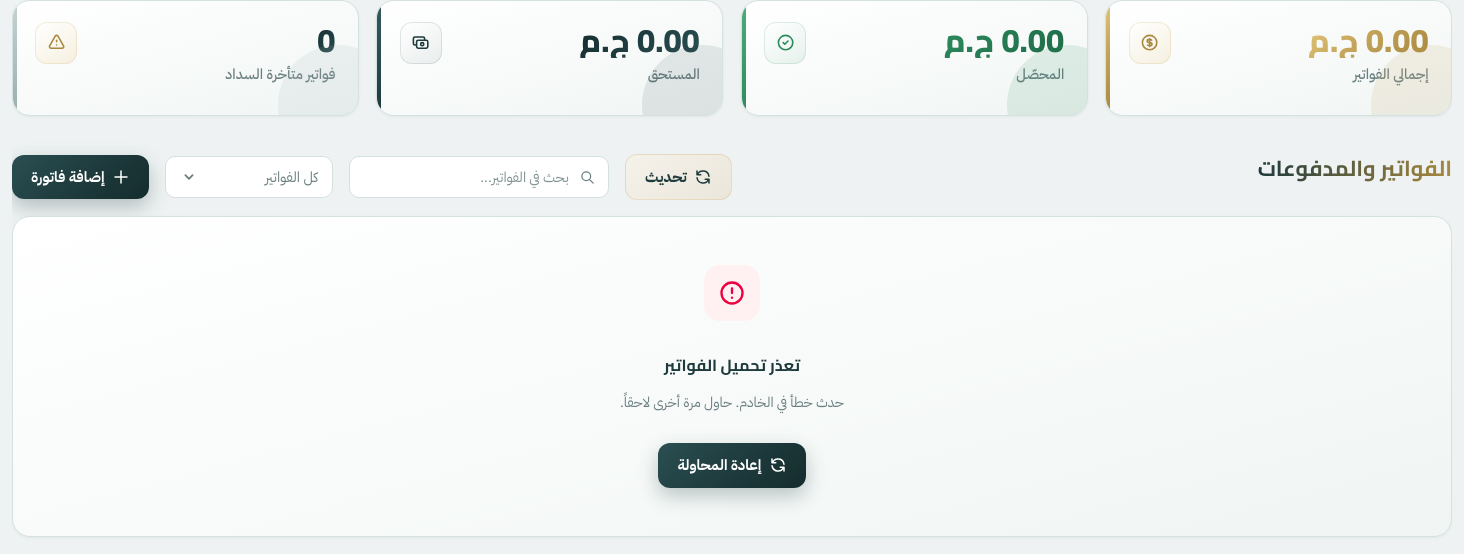
Test case: InvoicesPage Feature Tests › handles error state with retry button
The width and height of the screenshot is (1464, 554).
expect the text "تعذر تحميل الفواتير" is shown: met, box [664, 350, 800, 380]
Step 1. Click the button "إعادة المحاولة" → (732, 466), box [658, 443, 806, 488]
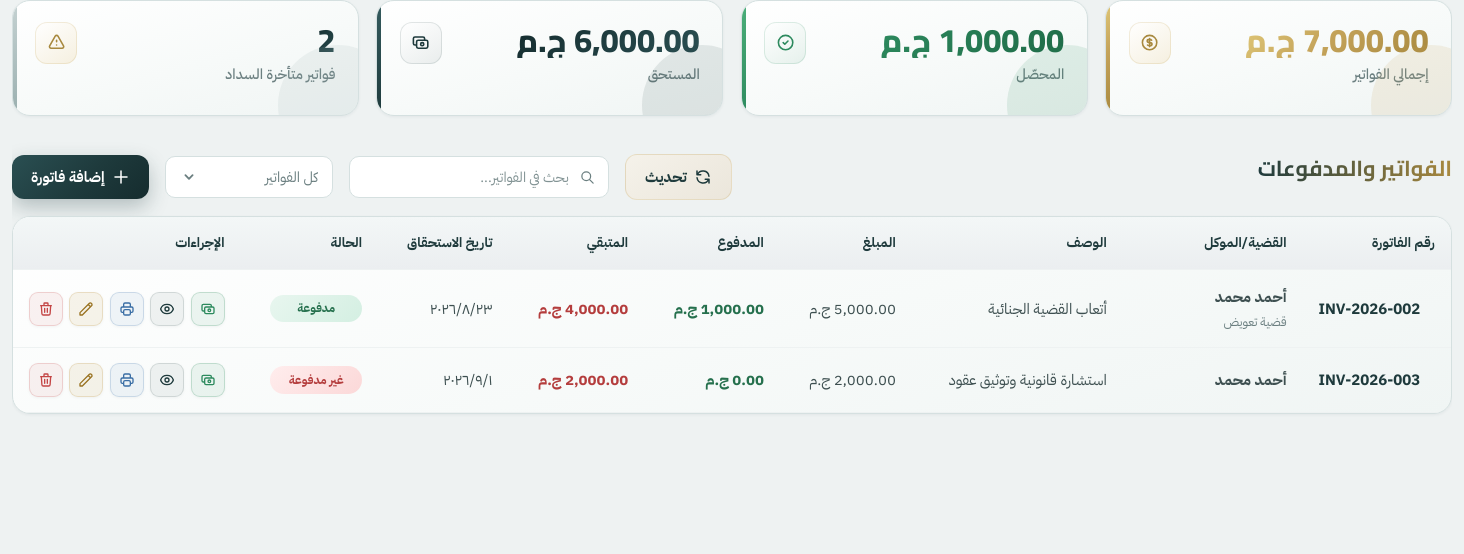
expect the text "INV-2026-002" is shown: met, box [1302, 270, 1451, 347]
